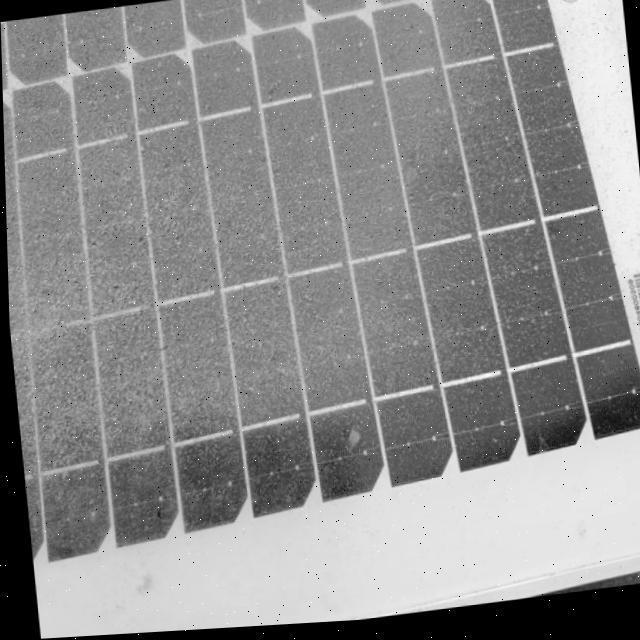Surface Contaminant: (1, 0, 640, 616)
